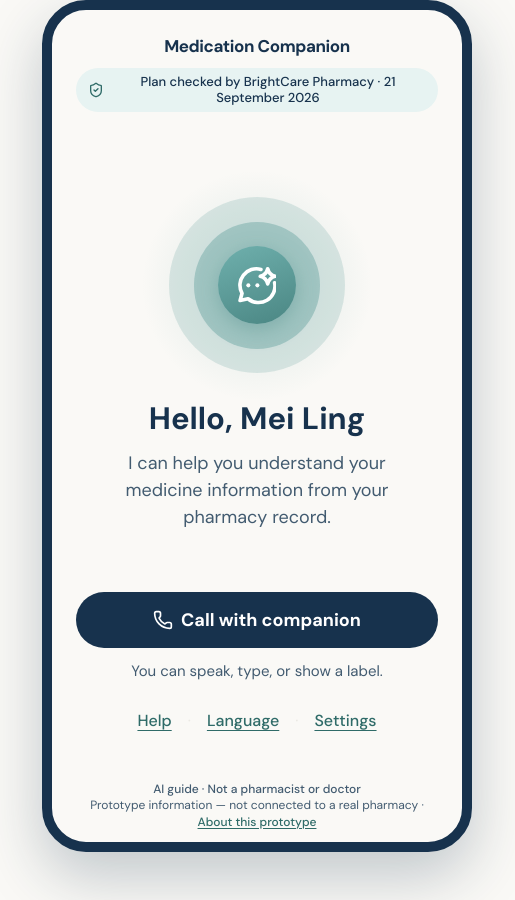
Test: primary journey (deck): question → Show medicine → camera → possible match → confirm → bilingual explanation → I understand › switches language by itself when the person uses Chinese, and back for English
Click the button "Call with companion".
click(257, 620)  # box [76,592,438,648]
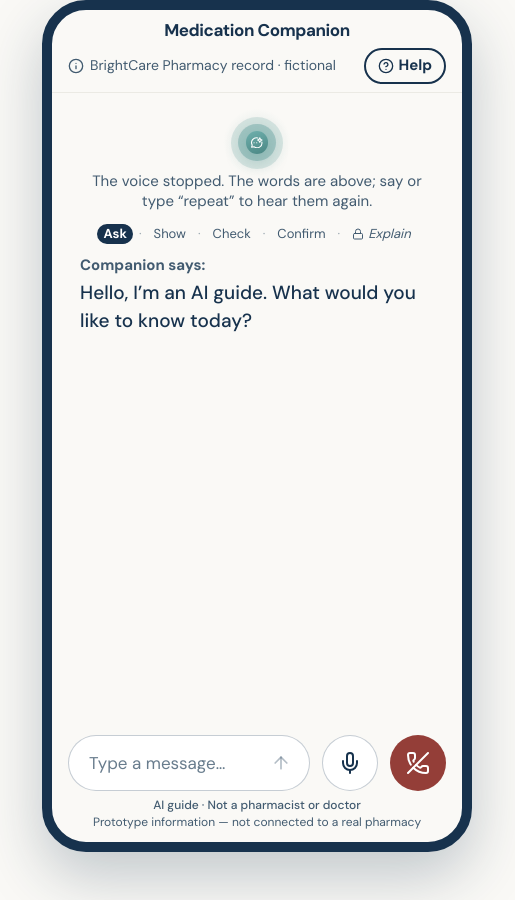
Type "这个药是做什么用的？" into the field.
click(171, 763); type("这个药是做什么用的？")  # box [89,736,253,790]
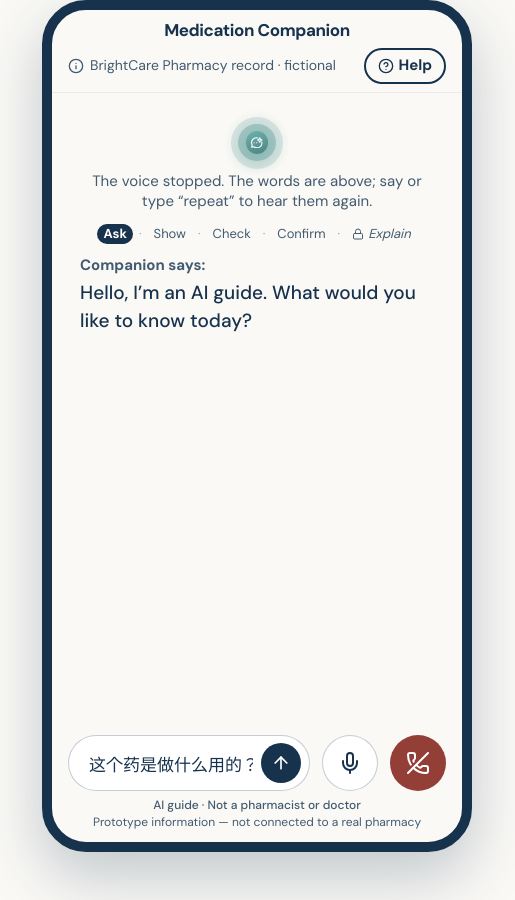
Submit the form, box [68,735,310,791]
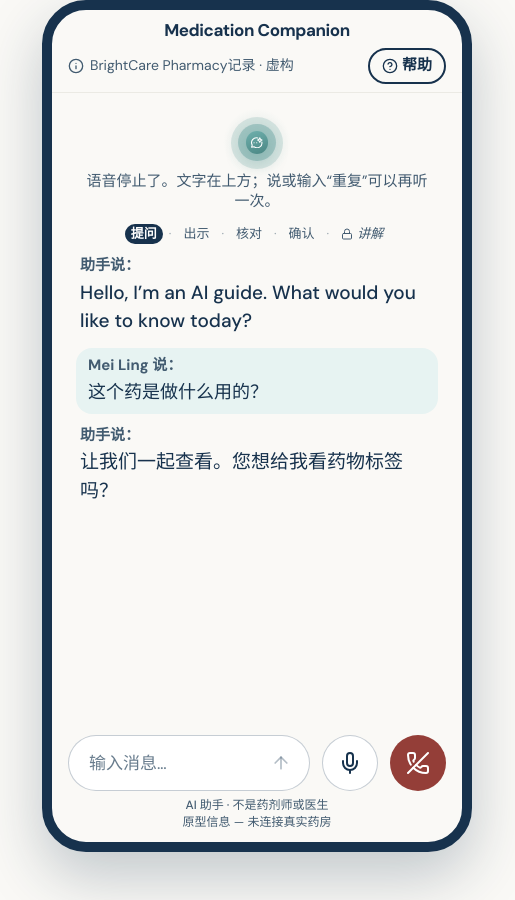
expect the field labelled "输入消息" is shown: met
Type "What is this for please" into the field.
click(171, 763); type("What is this for please")  # box [89,736,253,790]
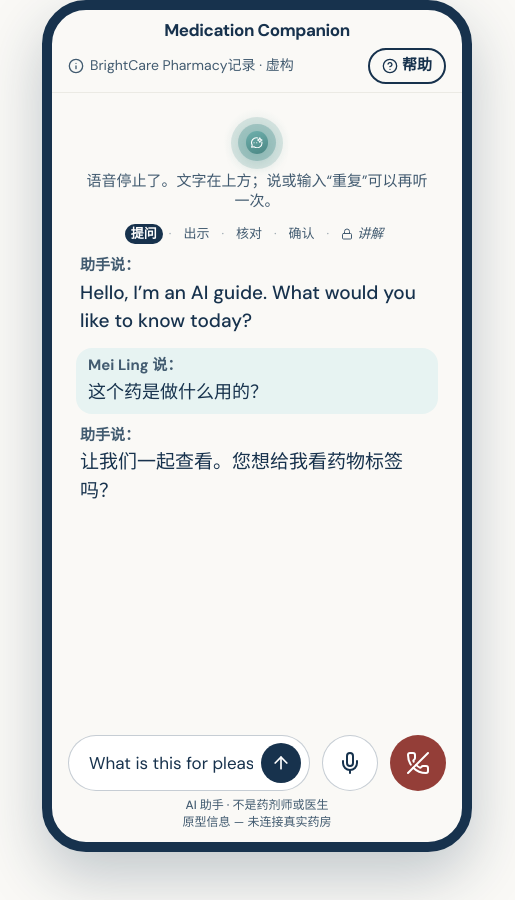
Submit the form, box [68,735,310,791]
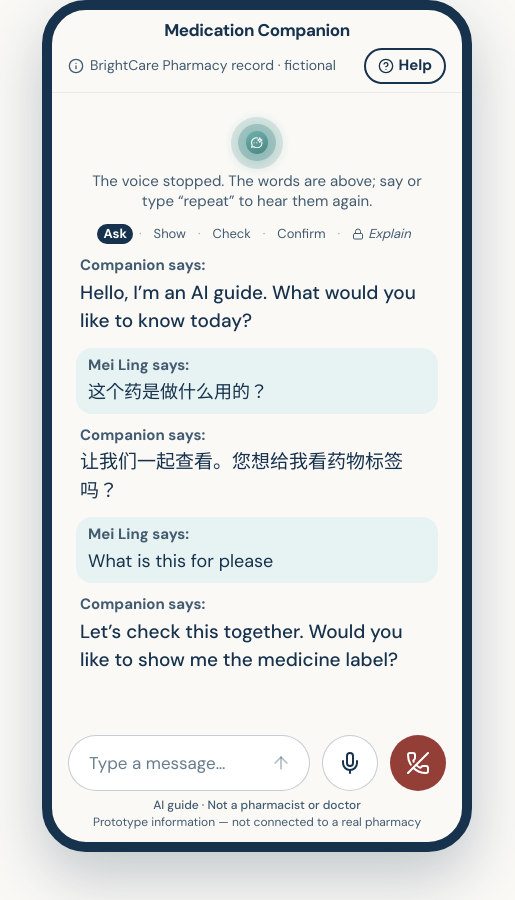
expect the field labelled "Type a message" is shown: met, box [89,736,253,790]
